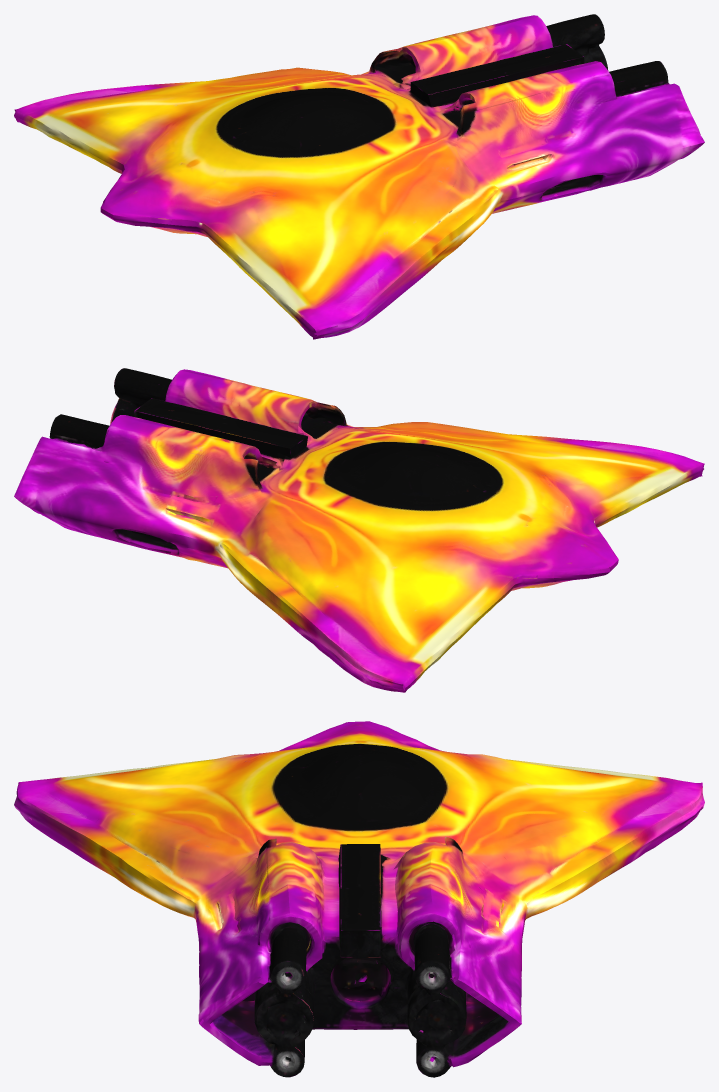
The model's file is ship14.glb.
The picture shows the model from 3 angles, top to bottom: view 1: azimuth 30°, elevation 25°; view 2: azimuth 150°, elevation 25°; view 3: azimuth 270°, elevation 25°; orthographic projection. The views are drawn at different scales.
Parts seen in each view (by area): view 1: Mesh0; view 2: Mesh0; view 3: Mesh0.
Boxes of the visible parts, x1,y1,x2,y2 form: Mesh0: (14, 14, 704, 339); Mesh0: (14, 368, 704, 692); Mesh0: (14, 721, 704, 1077).
Bounding box in the file's own units: 1.91 × 0.5943 × 1.9.
Materials: 1 (1 with a texture image).
